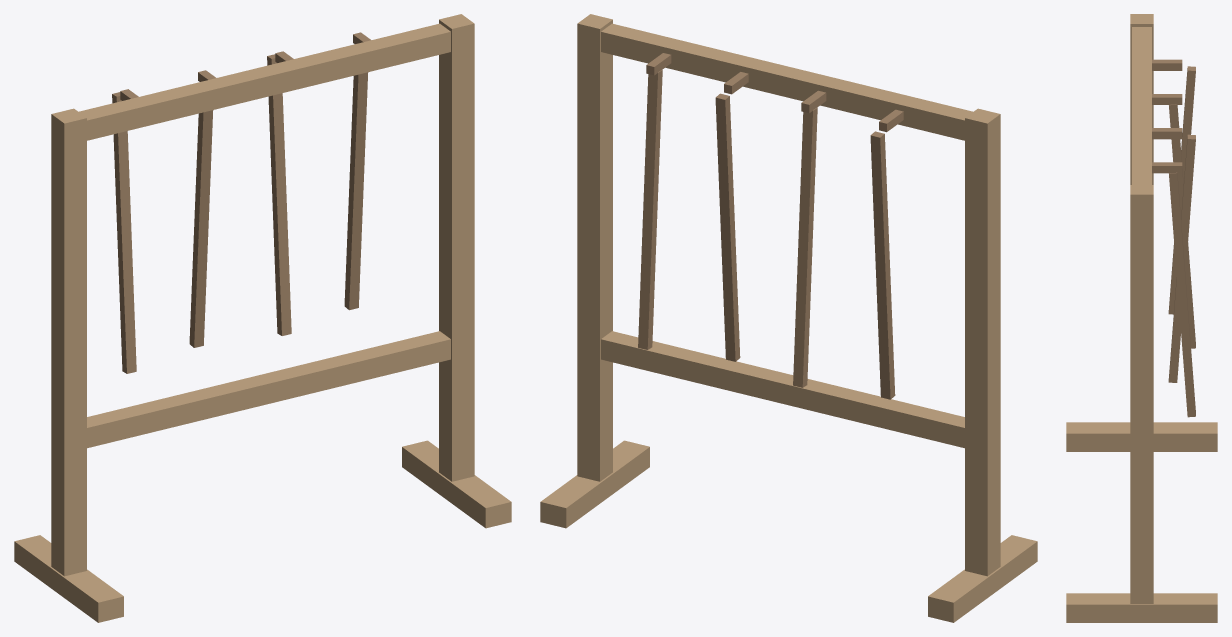
File: prop-bow-rack.fbx
3 renders of one model, left to right at view 1: azimuth 30°, elevation 25°; view 2: azimuth 150°, elevation 25°; view 3: azimuth 270°, elevation 25°, orthographic. The views are drawn at different scales.
Parts seen in each view (by area): view 1: prop-bow-rack; view 2: prop-bow-rack; view 3: prop-bow-rack.
Boxes of the visible parts, x1=… form: prop-bow-rack: x1=14, y1=14, x2=511, y2=622; prop-bow-rack: x1=540, y1=14, x2=1037, y2=622; prop-bow-rack: x1=1066, y1=14, x2=1217, y2=622.
Size of the model in its own units: 1.28 by 1.4 by 0.45.
